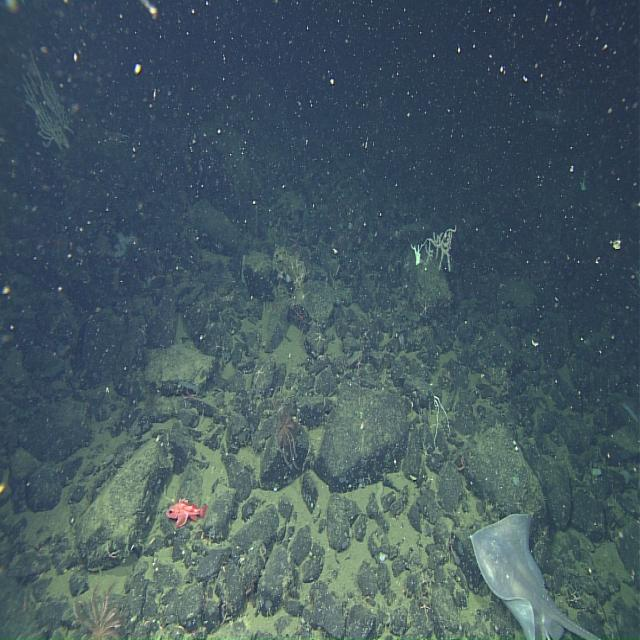Brittle Star: (100, 537, 126, 567), (307, 324, 333, 352), (136, 321, 157, 352), (209, 333, 232, 361), (418, 594, 438, 623), (248, 355, 266, 385), (420, 434, 434, 469), (357, 324, 378, 346), (362, 462, 377, 490), (352, 353, 368, 377)
